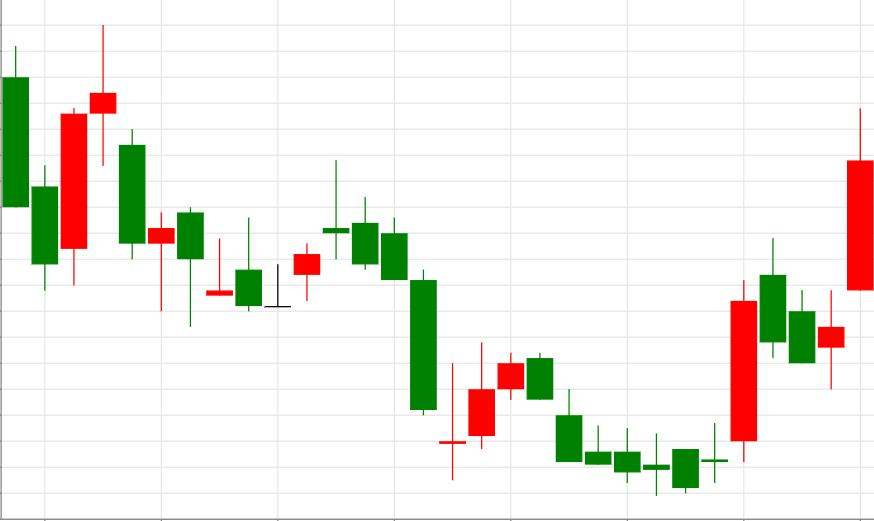morning_star_rise: (322, 159, 495, 481)
